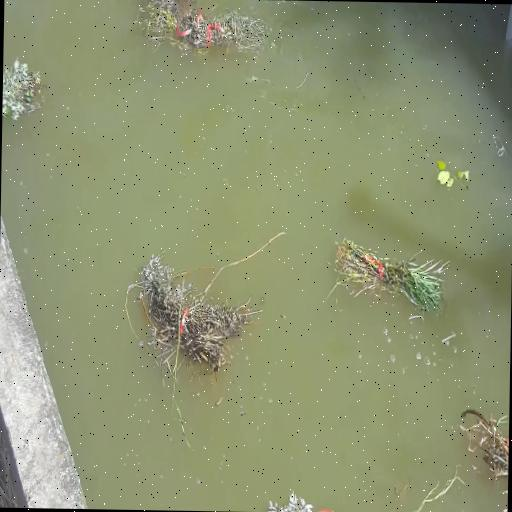twig: (146, 249, 244, 380), (330, 235, 471, 321), (142, 0, 261, 58), (454, 384, 510, 482), (2, 46, 60, 124), (420, 154, 470, 205), (261, 489, 333, 512)
